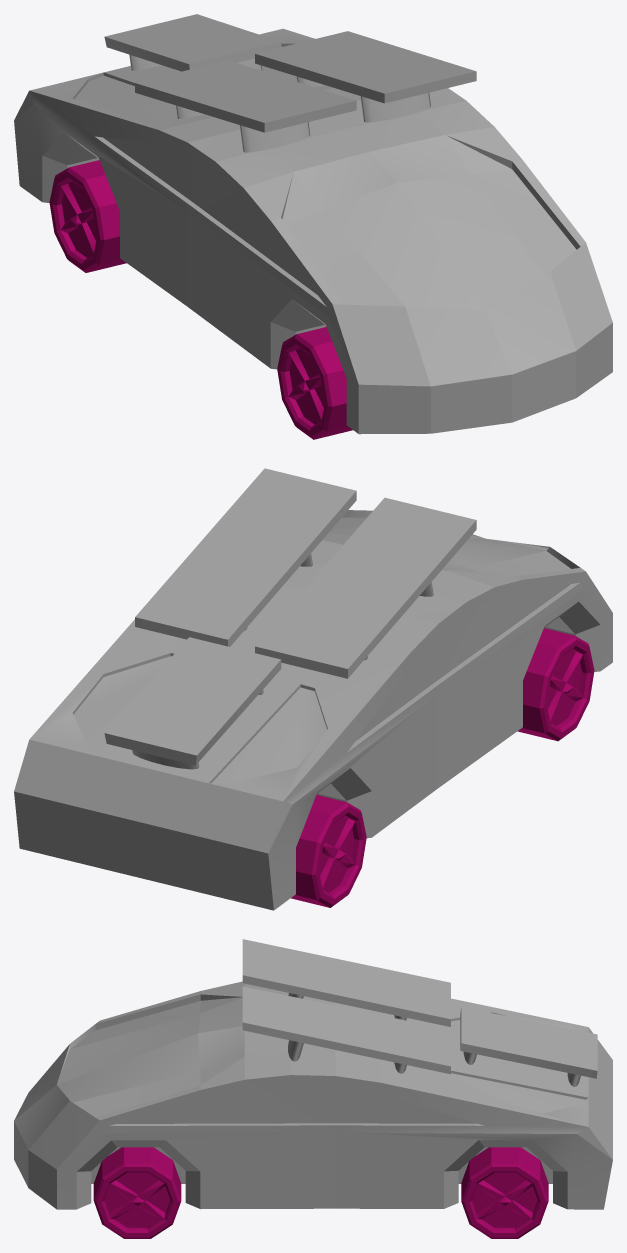
File: SPCar.fbx
The picture shows the model from 3 angles, top to bottom: view 1: azimuth 30°, elevation 25°; view 2: azimuth 150°, elevation 25°; view 3: azimuth 270°, elevation 25°; orthographic projection. The views are drawn at different scales.
Visible parts, largest first — view 1: CarBody, SolarPannels, pasted__pCylinder3, pasted__pCylinder4, SolarPosts; view 2: CarBody, SolarPannels, pasted__pCylinder4, pasted__pCylinder3, SolarPosts; view 3: CarBody, SolarPannels, pasted__pCylinder1, pasted__pCylinder2, SolarPosts.
Part boxes in pixels (x1,y1,x2,y2): CarBody: (14, 28, 612, 434); SolarPannels: (104, 14, 476, 132); pasted__pCylinder3: (49, 160, 126, 272); pasted__pCylinder4: (277, 327, 352, 439); SolarPosts: (129, 54, 430, 152); CarBody: (14, 510, 612, 910); SolarPannels: (104, 468, 476, 765); pasted__pCylinder4: (517, 628, 594, 741); pasted__pCylinder3: (291, 795, 366, 907); SolarPosts: (132, 554, 433, 769); CarBody: (14, 981, 612, 1209); SolarPannels: (242, 939, 597, 1078); pasted__pCylinder1: (93, 1147, 181, 1238); pasted__pCylinder2: (461, 1147, 548, 1238); SolarPosts: (288, 993, 580, 1086).
Bounding box in the file's own units: 236 × 216 × 566.
